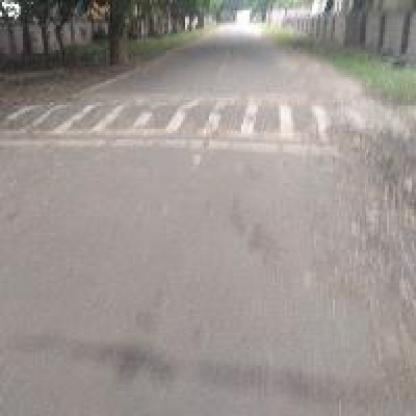Speed Bump: (0, 85, 366, 160)
